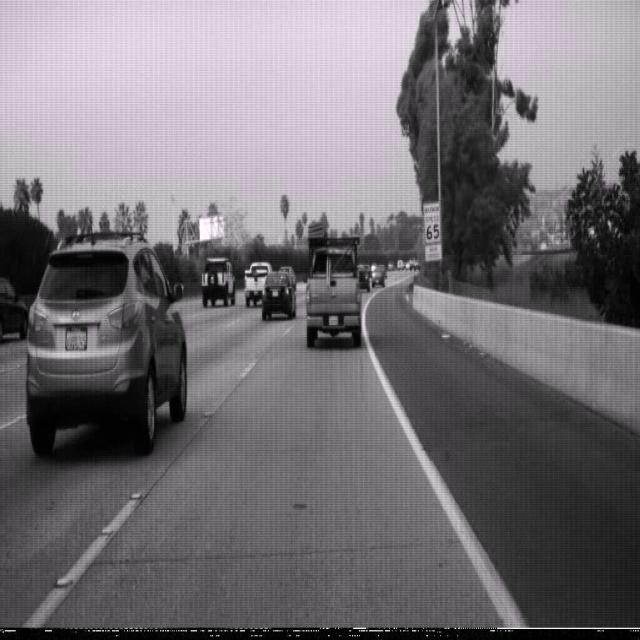speedLimit65: (422, 200, 442, 245)
